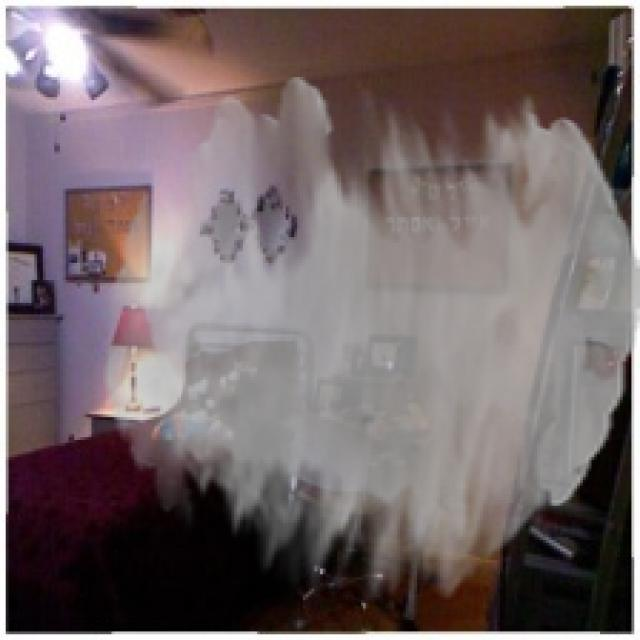Smoke: (102, 77, 638, 606)
